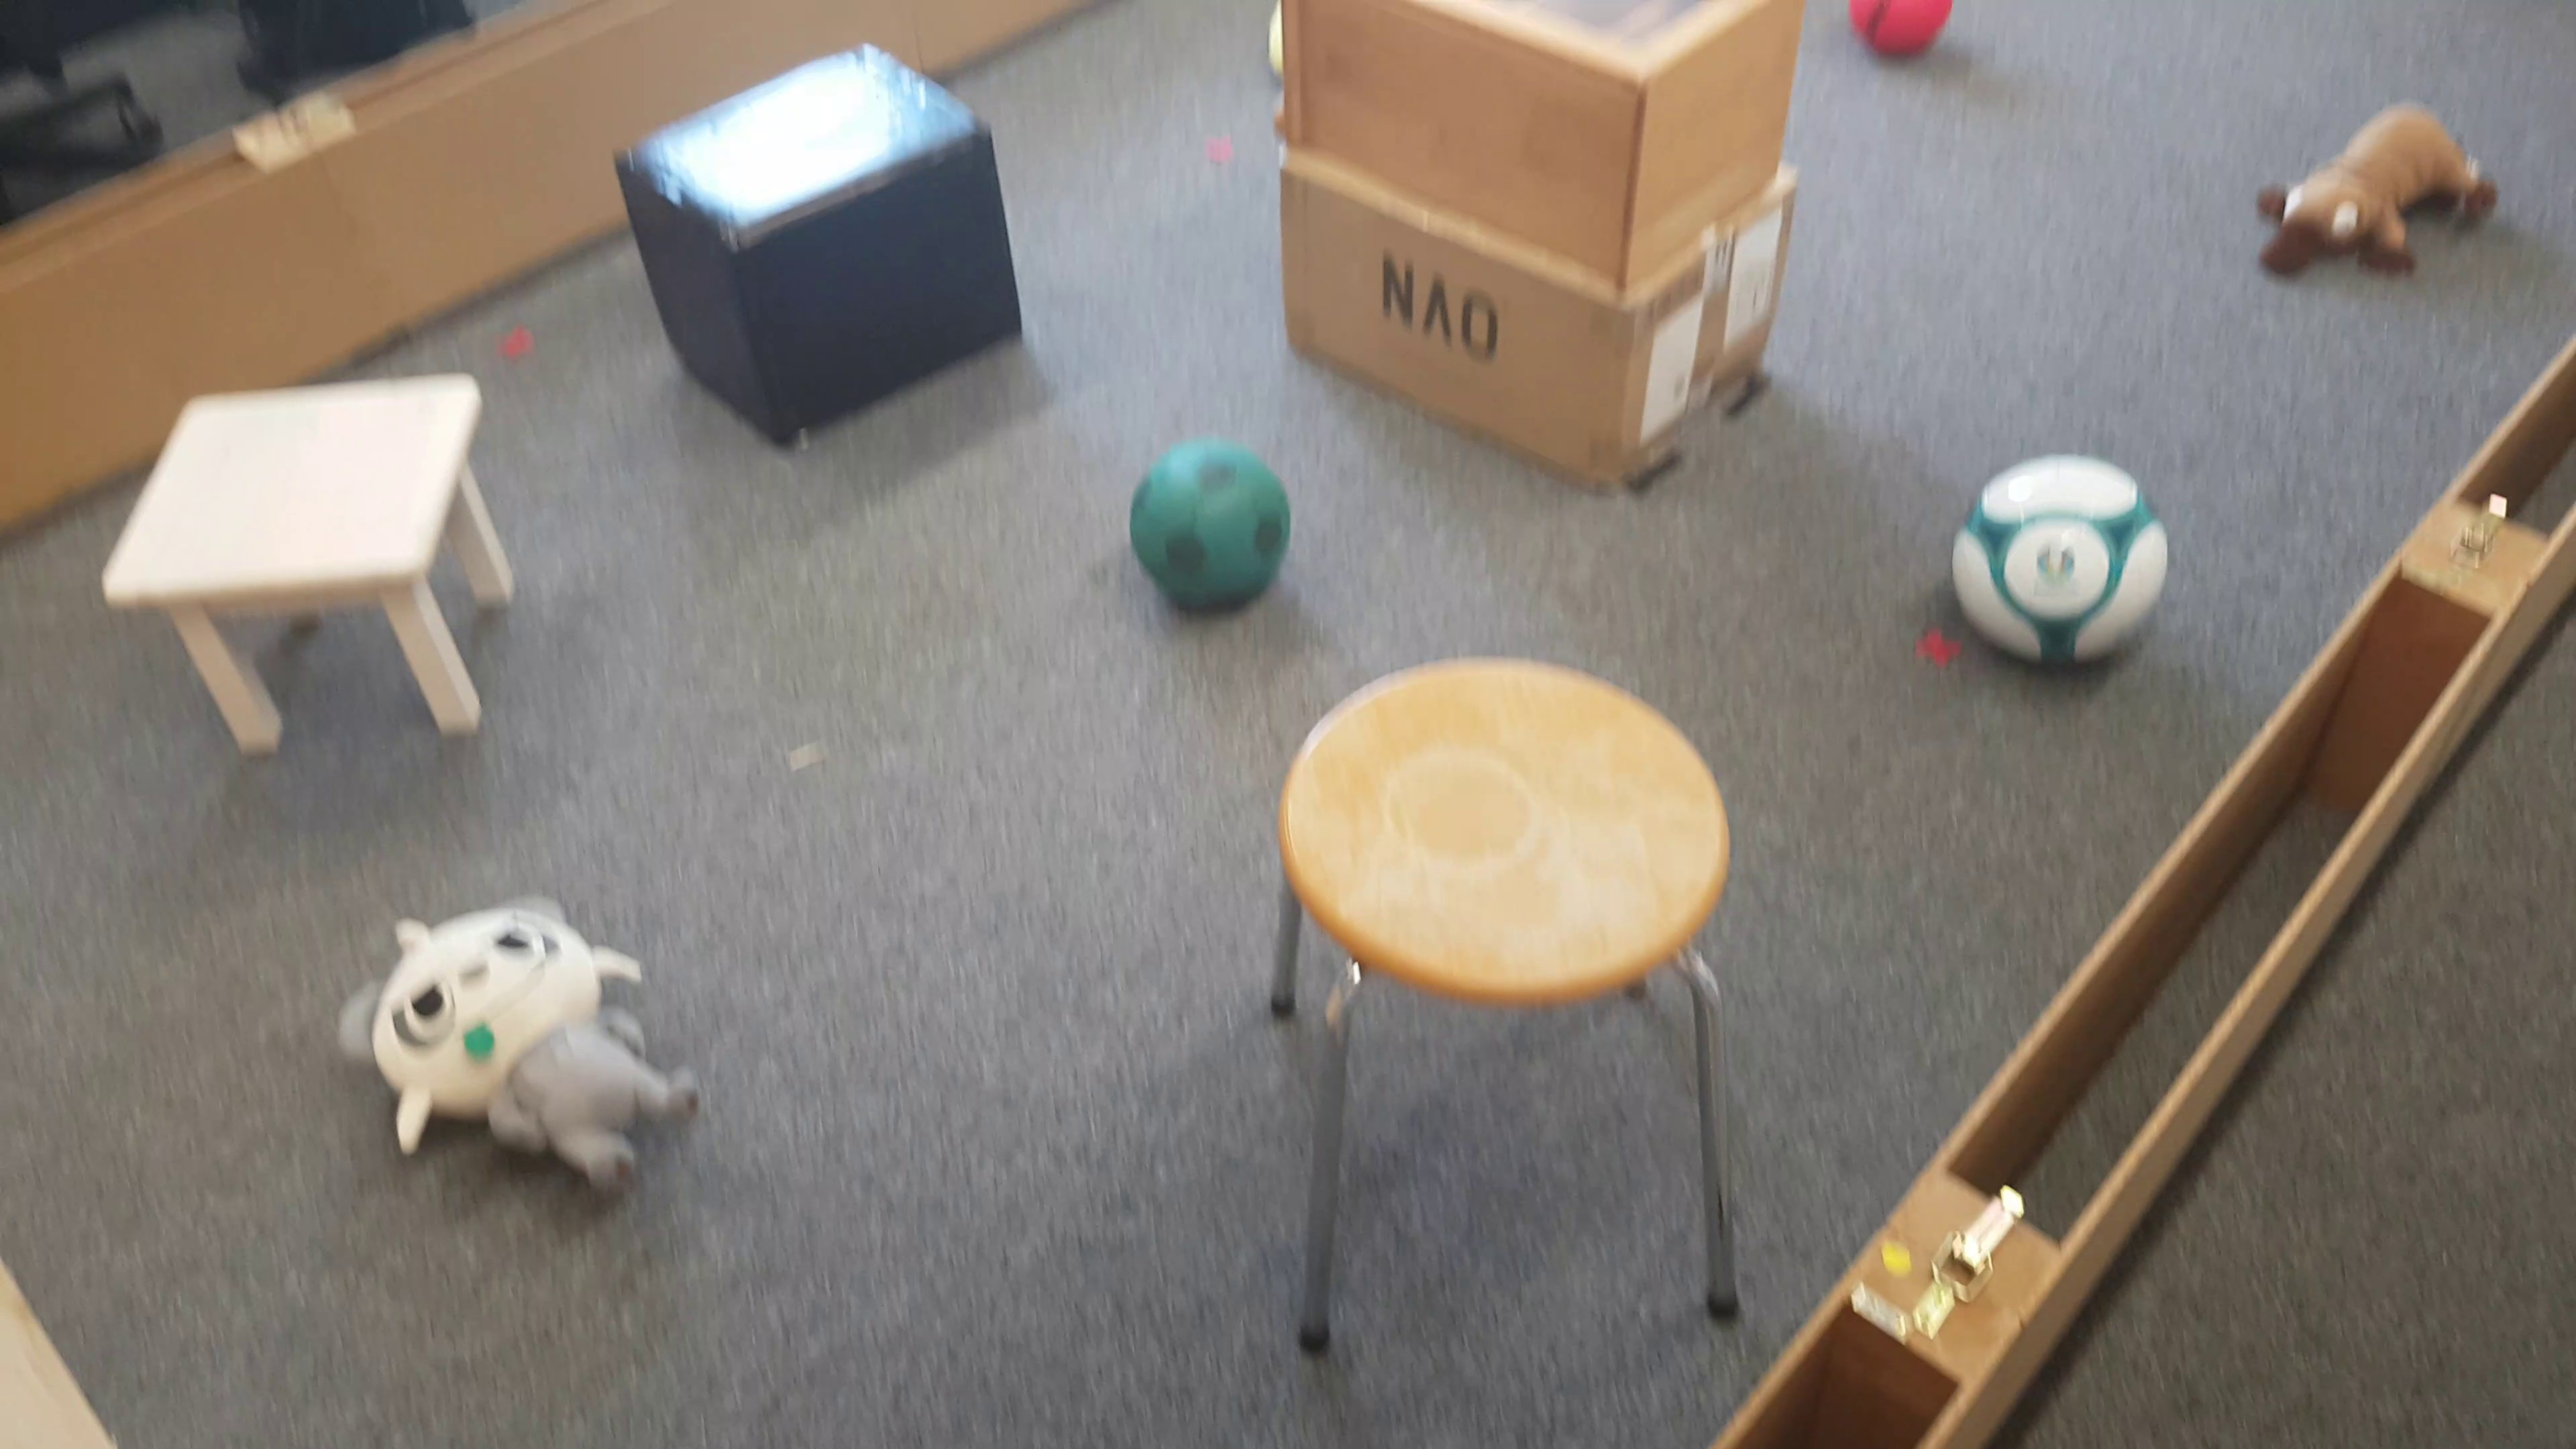grasp: (356, 892, 706, 1203), (2254, 88, 2495, 285)
kick: (1955, 460, 2169, 674), (1131, 442, 1292, 612), (1858, 4, 1955, 55)
push: (609, 50, 1033, 442)
